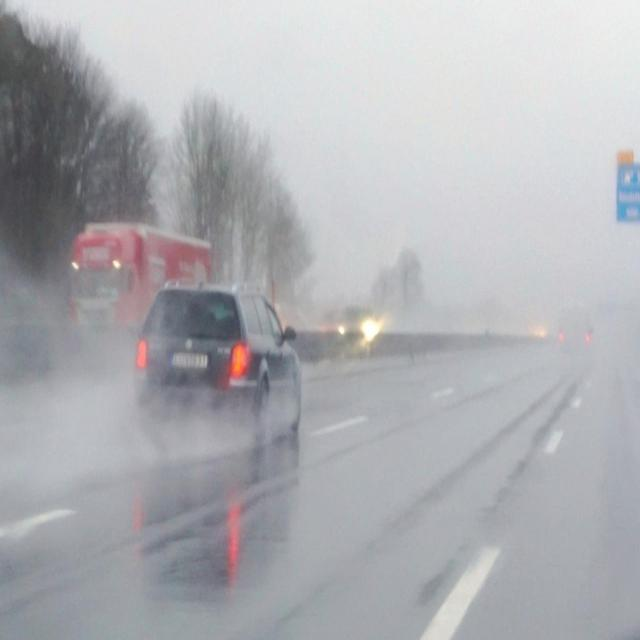Car: (128, 276, 303, 444), (338, 297, 377, 357)
Truck: (53, 214, 233, 358)
